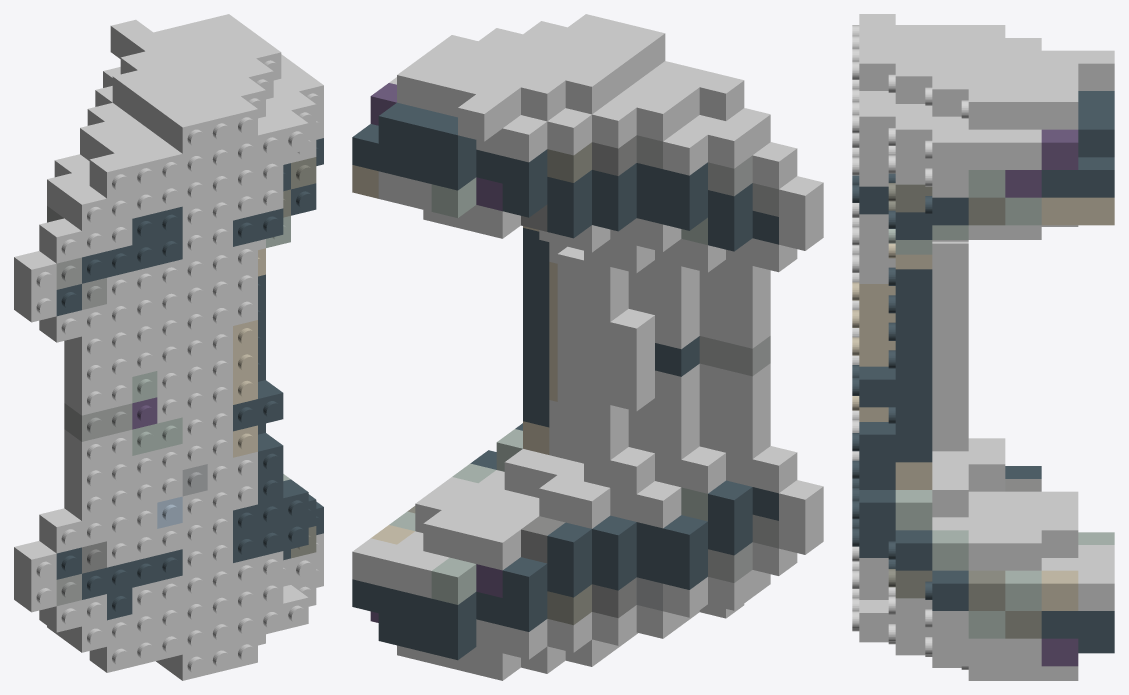
File: full.glb
3 renders of one model, left to right at view 1: azimuth 30°, elevation 25°; view 2: azimuth 150°, elevation 25°; view 3: azimuth 270°, elevation 25°, orthographic. The views are drawn at different scales.
Parts seen in each view (by area): view 1: world; view 2: world; view 3: world.
Boxes of the visible parts, x1,y1,x2,y2 form: world: (14,14,323,680); world: (352,14,823,680); world: (852,14,1114,680).
Bounding box in the file's own units: 104 × 168 × 69.
